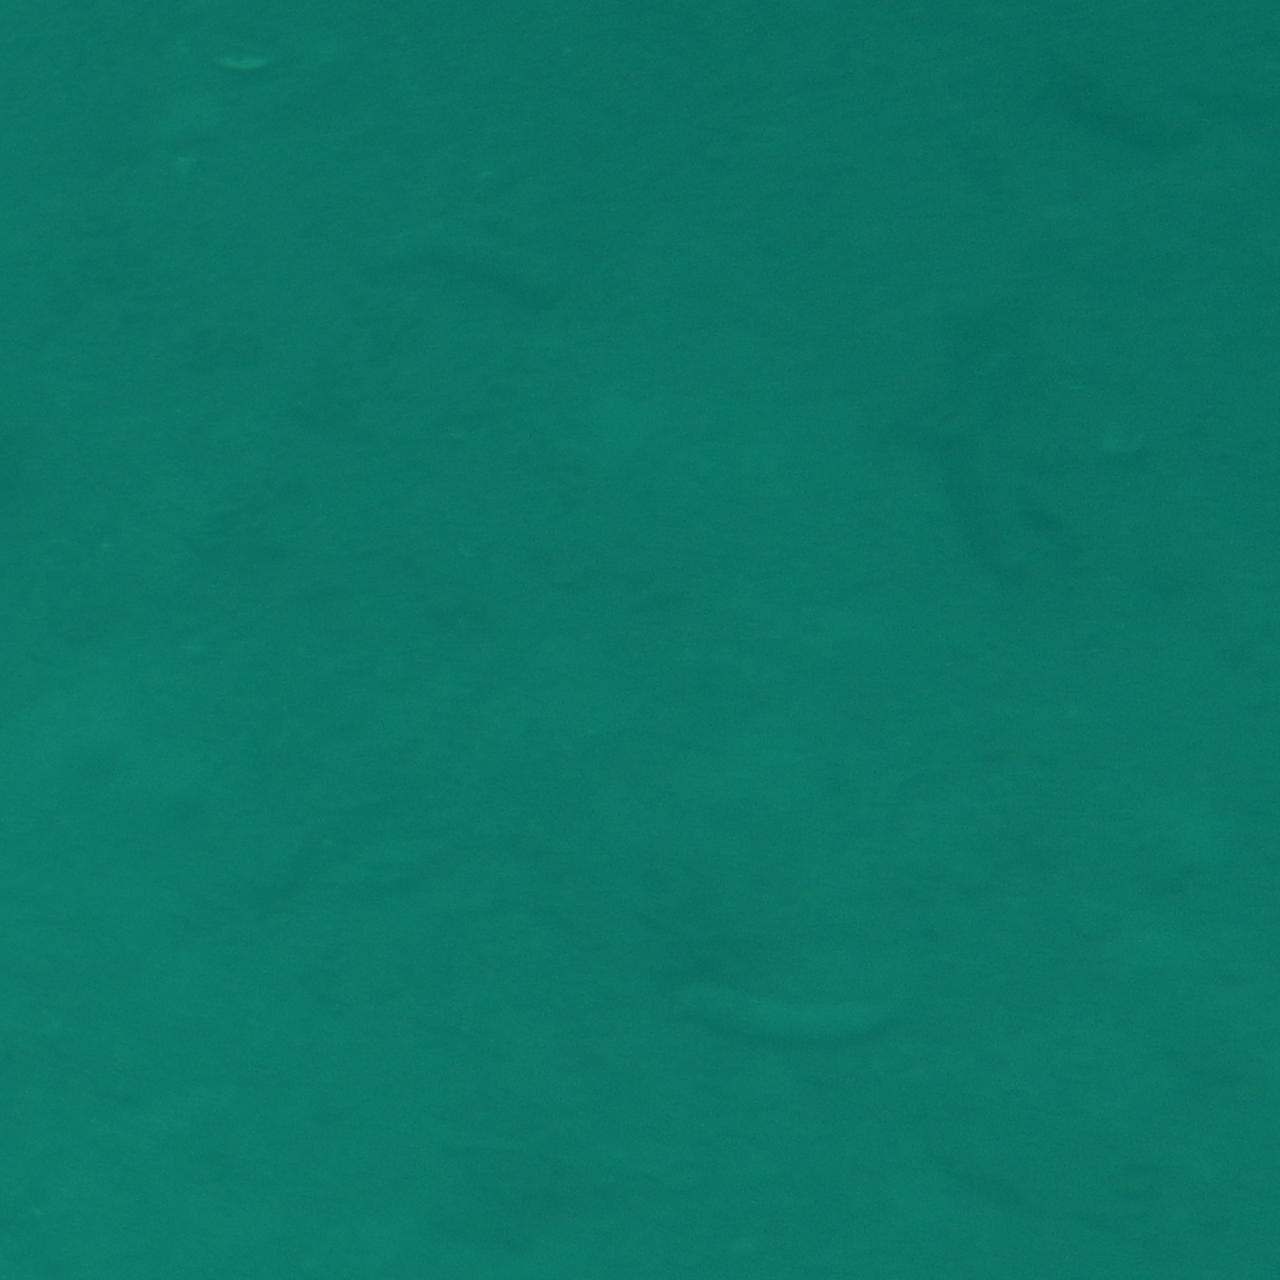Holothuria tubulosa: (654, 974, 975, 1074), (325, 205, 607, 308)
